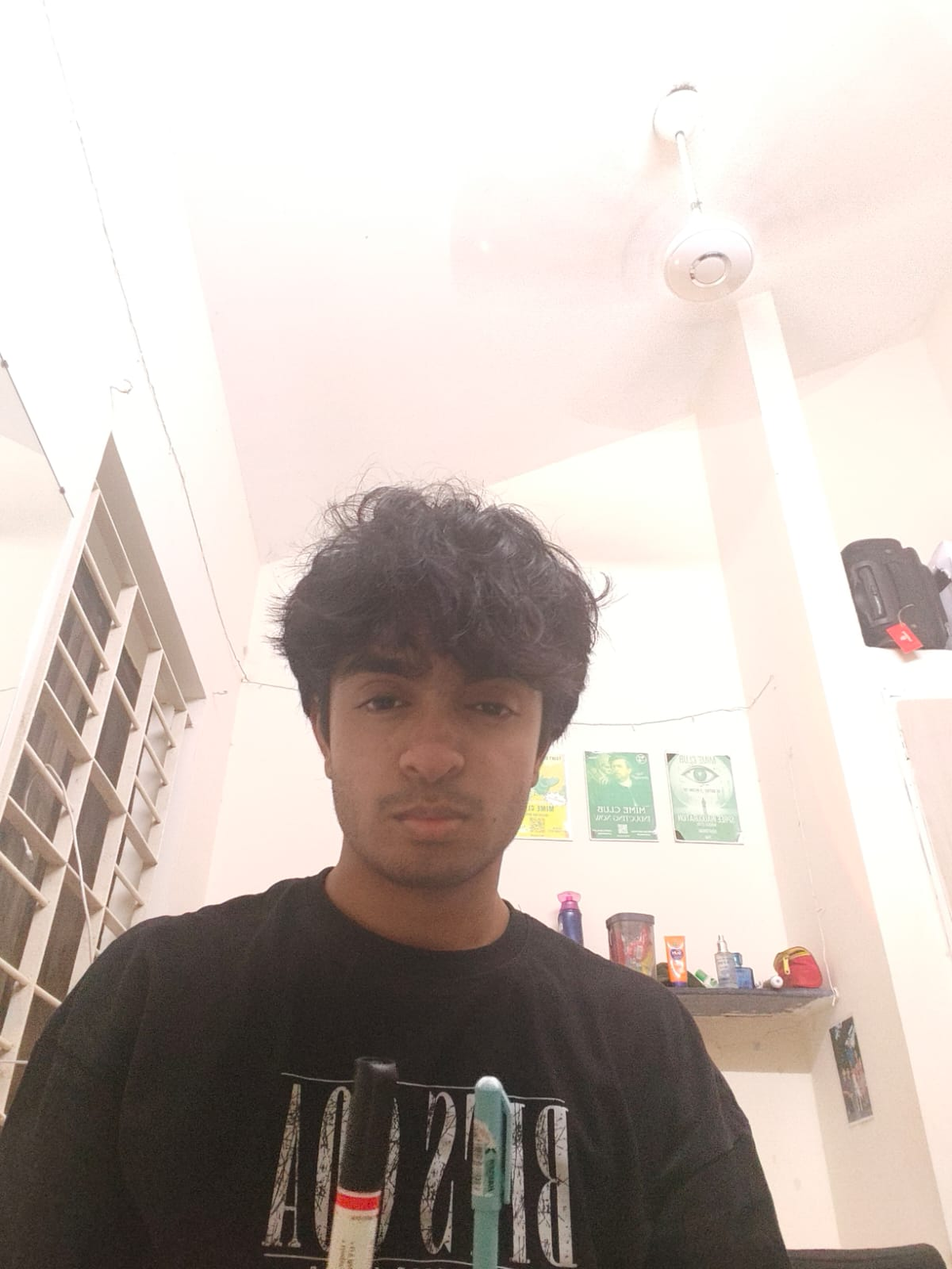case: (334, 1040, 388, 1269)
pen: (448, 1067, 532, 1266)
